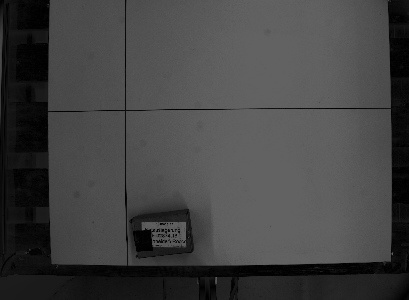b6: (127, 206, 196, 260)
